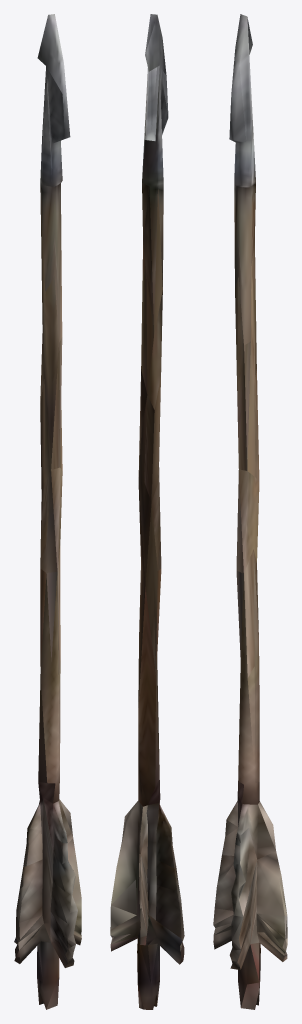
3 views of the same model, side by side, from view 1: azimuth 30°, elevation 25°; view 2: azimuth 150°, elevation 25°; view 3: azimuth 330°, elevation 25° (orthographic).
Visible parts, largest first — view 1: oq; view 2: oq; view 3: oq.
Part boxes in pixels (x1=…): oq: x1=14, y1=14, x2=81, y2=1009; oq: x1=110, y1=14, x2=184, y2=1009; oq: x1=213, y1=14, x2=287, y2=1009.
Size of the model in its own units: 0.0533 by 0.75 by 0.0342.
Materials: 1 (1 with a texture image).
